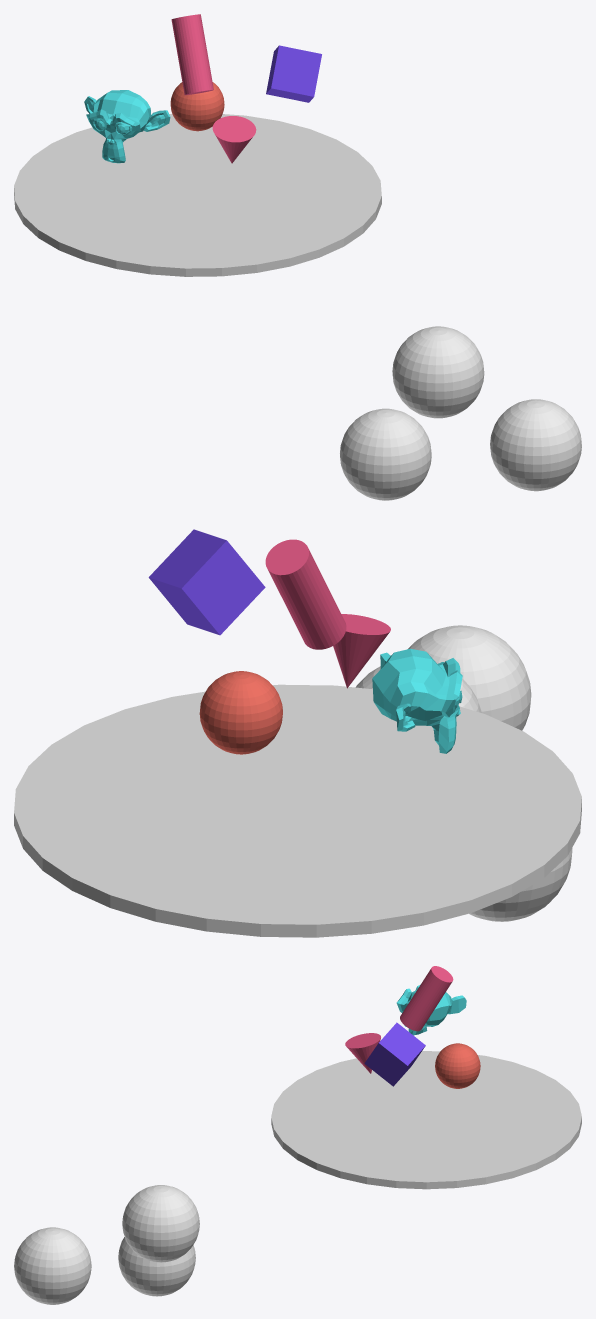
File: TestScene.gltf.glb
3 views of the same model, one above another, from view 1: azimuth 30°, elevation 25°; view 2: azimuth 150°, elevation 25°; view 3: azimuth 270°, elevation 25° (orthographic). The views are drawn at different scales.
Parts seen in each view (by area): view 1: Cylinder, Sphere.001, Sphere.003, Sphere.002, Suzanne, Cube, Cylinder.001, Sphere, Cone; view 2: Cylinder, Cube, Suzanne, Sphere.002, Sphere, Cylinder.001, Sphere.003, Cone, Sphere.001; view 3: Cylinder, Sphere.001, Sphere.002, Sphere.003, Cube, Cylinder.001, Sphere, Suzanne, Cone.
Boxes of the visible parts, x1,y1,x2,y2 form: Cylinder: [14, 114, 381, 276]; Sphere.001: [392, 326, 484, 418]; Sphere.003: [340, 408, 431, 500]; Sphere.002: [490, 399, 581, 491]; Suzanne: [84, 90, 170, 163]; Cube: [266, 45, 321, 102]; Cylinder.001: [171, 14, 213, 95]; Sphere: [170, 82, 224, 131]; Cone: [212, 116, 256, 163]; Cylinder: [14, 684, 581, 937]; Cube: [148, 529, 265, 635]; Suzanne: [372, 648, 462, 753]; Sphere.002: [408, 625, 531, 730]; Sphere: [199, 671, 282, 754]; Cylinder.001: [265, 539, 346, 649]; Sphere.003: [469, 848, 572, 921]; Cone: [333, 614, 390, 688]; Sphere.001: [355, 662, 481, 712]; Cylinder: [271, 1051, 581, 1189]; Sphere.001: [122, 1185, 199, 1262]; Sphere.002: [14, 1227, 91, 1304]; Sphere.003: [118, 1237, 195, 1296]; Cube: [364, 1022, 425, 1086]; Cylinder.001: [400, 966, 453, 1031]; Sphere: [435, 1043, 480, 1088]; Suzanne: [396, 984, 466, 1035]; Cone: [345, 1033, 380, 1073].
Size of the model in its own units: 8 by 8.85 by 14.62.
